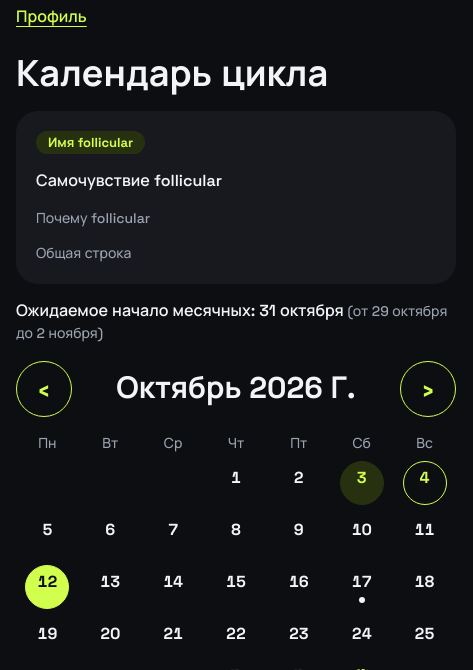
Scenario: тап по дню › уже есть начало в этот день — второе не ставится
What coordinates should you click on to do the following:
click the button "3"
I would click on:
 (362, 483)
Its box is x1=340 y1=461 x2=384 y2=505.
(page scrolled)
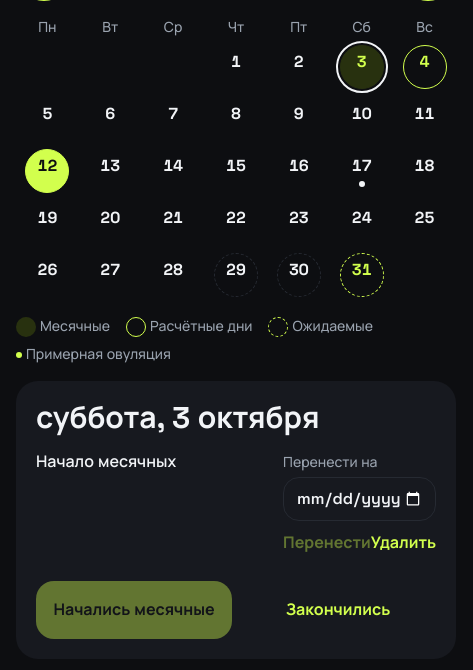
expect the button "Начались месячные" is disabled: met, box x1=36 y1=581 x2=232 y2=639
